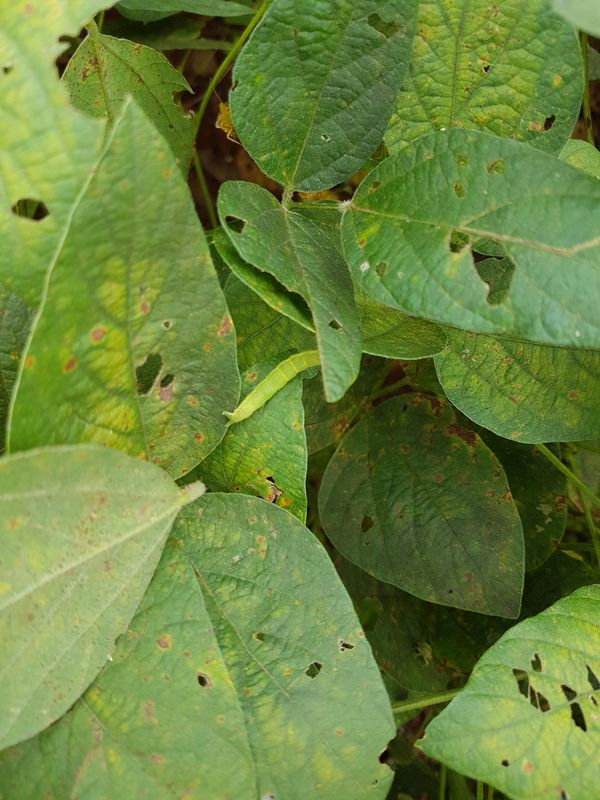Anticarsia_gemmatalis: (210, 334, 344, 441)
